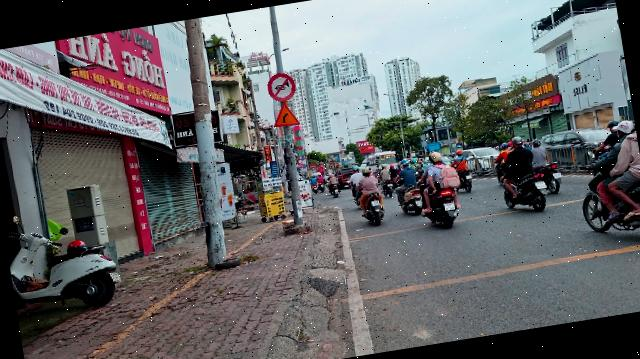cam-bop-coi: (265, 70, 298, 102)
cho-ngoat-nguy-hiem-ben-trai: (270, 99, 300, 128)
